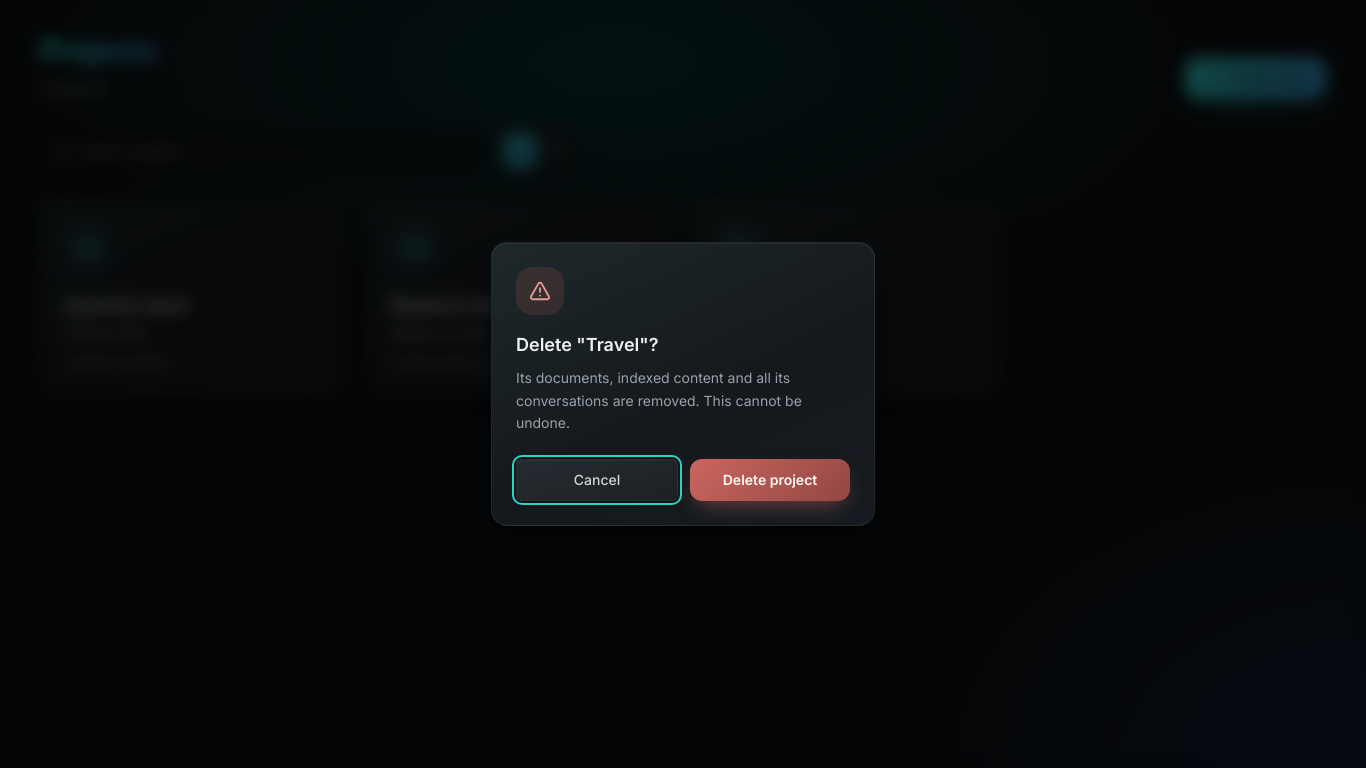
Scenario: projects page › P07 delete opens a dialog, cancel keeps the project, confirm removes it and shows a notice
Earlier steps of the test are not shown.
What coordinates should you click on to do the following:
click the button "Delete project"
I would click on:
 (770, 480)
Its box is left=690, top=459, right=850, bottom=501.
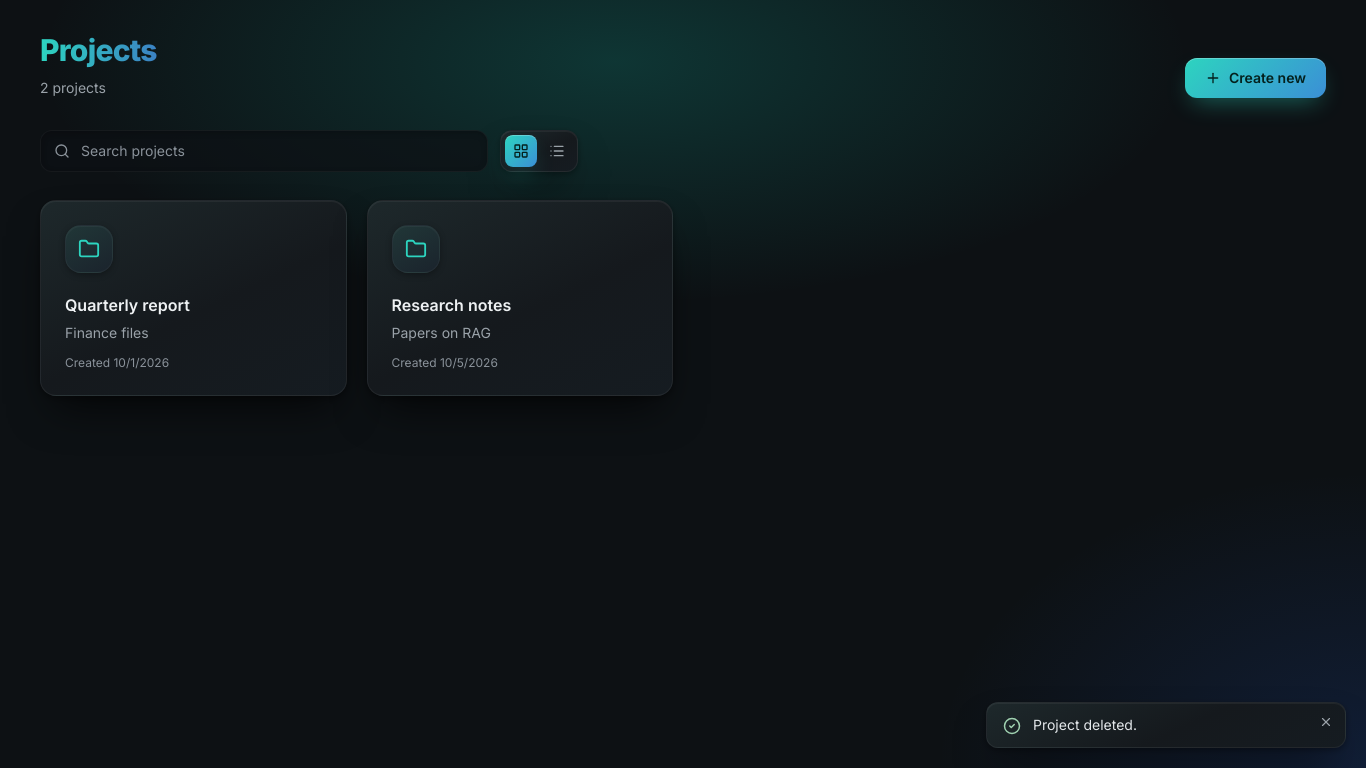
Now the link "Travel" is gone
Now the text "2 projects" is shown, box left=40, top=79, right=106, bottom=96
Now the text "Project deleted." is shown, box left=1033, top=715, right=1137, bottom=735
